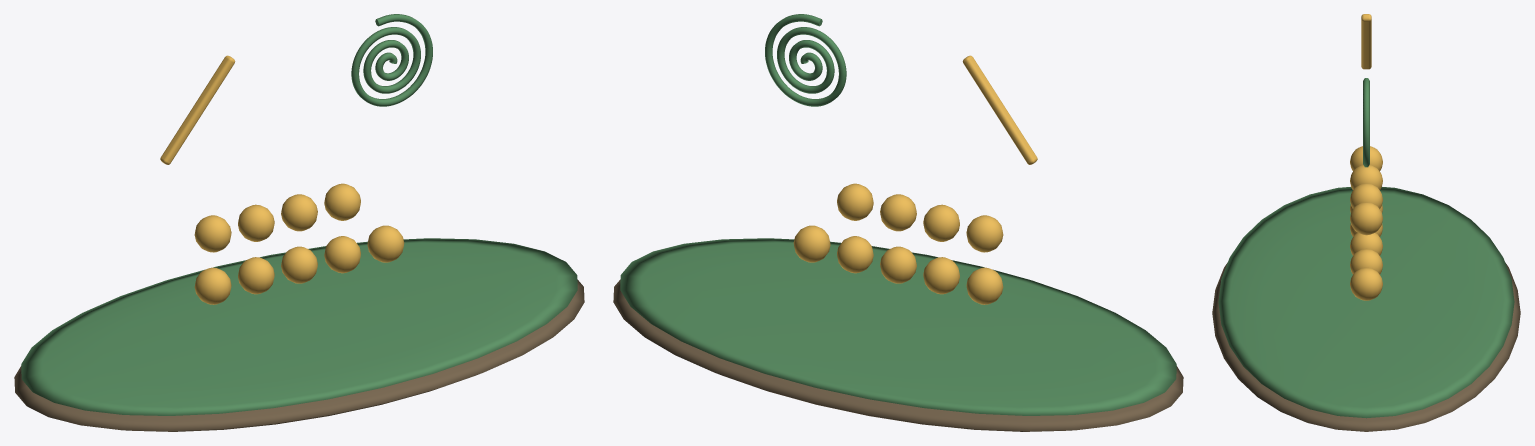
File: nine.glb
The picture shows the model from 3 angles, left to right: view 1: azimuth 30°, elevation 25°; view 2: azimuth 150°, elevation 25°; view 3: azimuth 270°, elevation 25°; orthographic projection. The views are drawn at different scales.
Parts seen in each view (by area): view 1: nine_surface_01, nine_surface_02, nine_surface_00; view 2: nine_surface_01, nine_surface_02, nine_surface_00; view 3: nine_surface_01, nine_surface_00, nine_surface_02.
Boxes of the visible parts, box(x1,y1,x2,y2) form: nine_surface_01: box(21, 14, 577, 415); nine_surface_02: box(160, 55, 404, 304); nine_surface_00: box(14, 279, 584, 431); nine_surface_01: box(620, 14, 1176, 415); nine_surface_02: box(793, 55, 1037, 304); nine_surface_00: box(613, 279, 1183, 431); nine_surface_01: box(1218, 78, 1514, 418); nine_surface_00: box(1212, 262, 1520, 431); nine_surface_02: box(1350, 14, 1382, 300).
Size of the model in its own units: 4.56 by 2.54 by 2.5.
